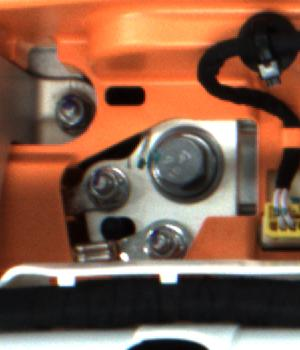nut_b: (145, 119, 226, 206)
screw_s: (82, 163, 128, 206), (141, 224, 188, 257), (53, 93, 89, 132)
